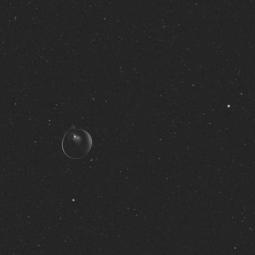debris: (51, 112, 101, 163)
